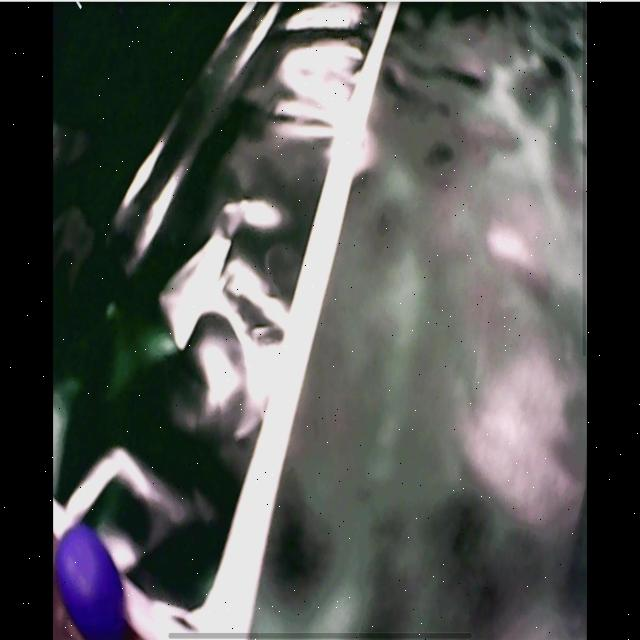ball: (57, 527, 125, 636)
